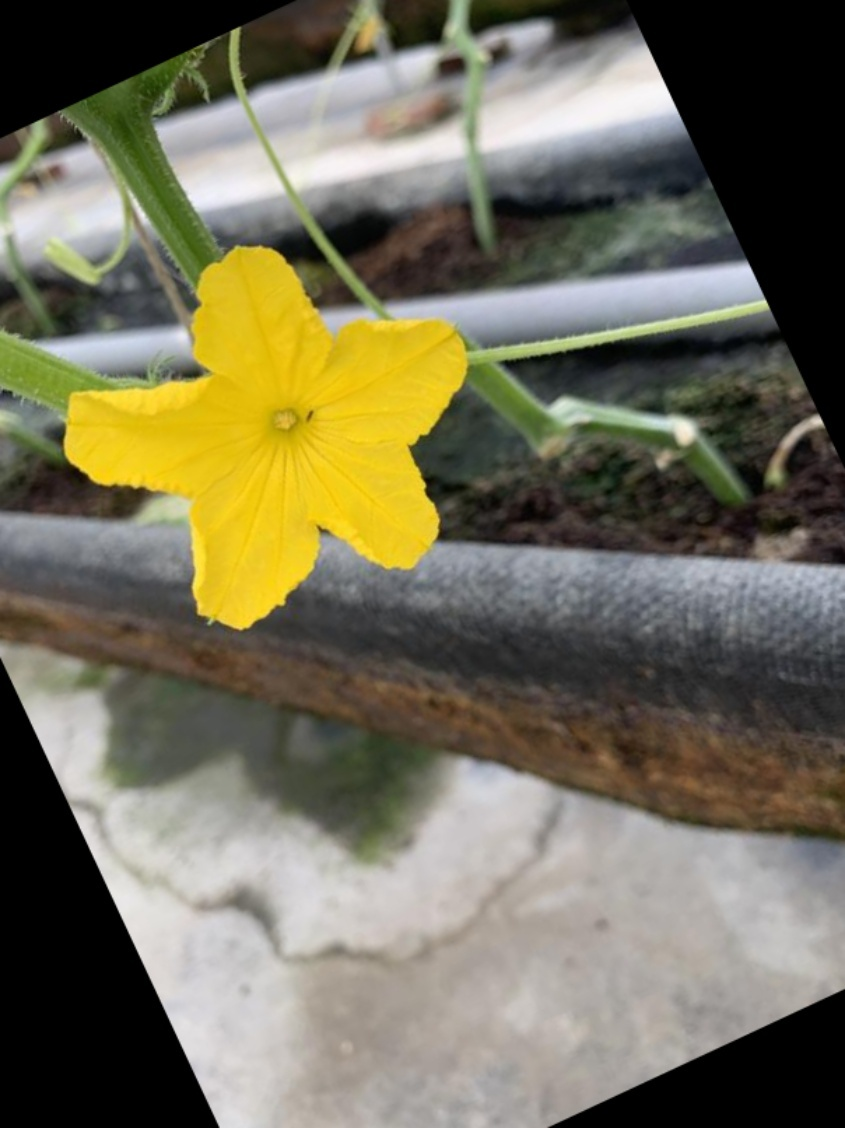mature: (148, 236, 463, 636)
